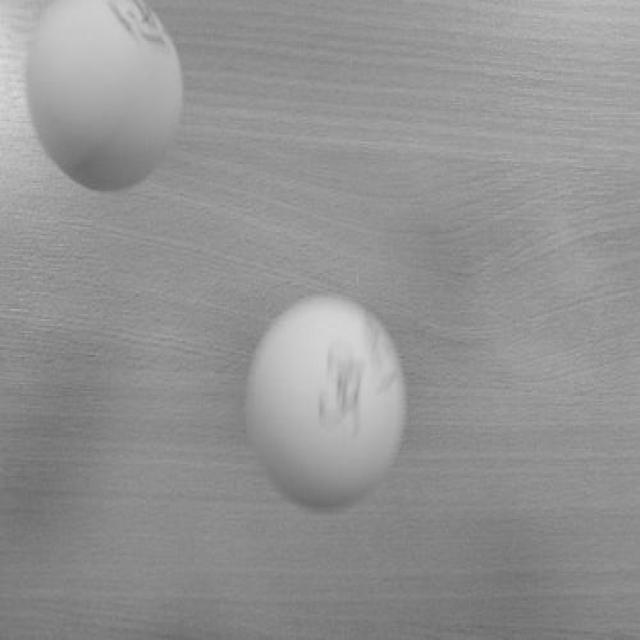ping-pong-ball: (248, 293, 407, 512), (25, 0, 184, 192)
